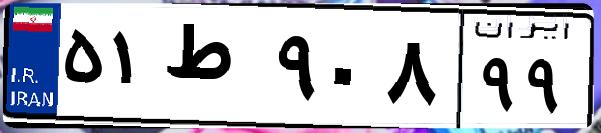0: (330, 28, 385, 110)
1: (110, 28, 158, 98)
5: (57, 26, 110, 100)
8: (385, 28, 445, 110)
9: (270, 28, 330, 110), (475, 38, 525, 113), (525, 38, 570, 115)
ط: (158, 20, 270, 120)
